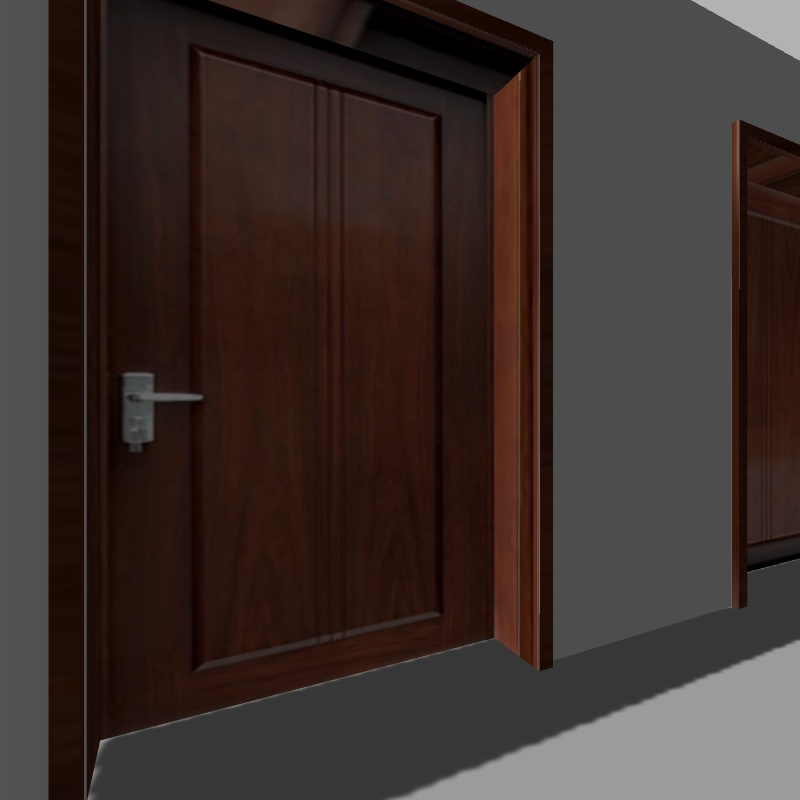handle: (98, 364, 218, 459)
